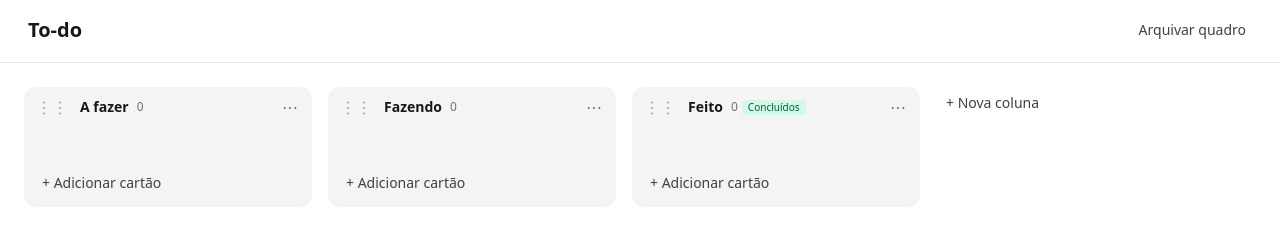
Scenario: BoardView › renomeia o quadro
The image size is (1280, 244).
Click the button "To-do" at (55, 30), box [24, 16, 86, 44]
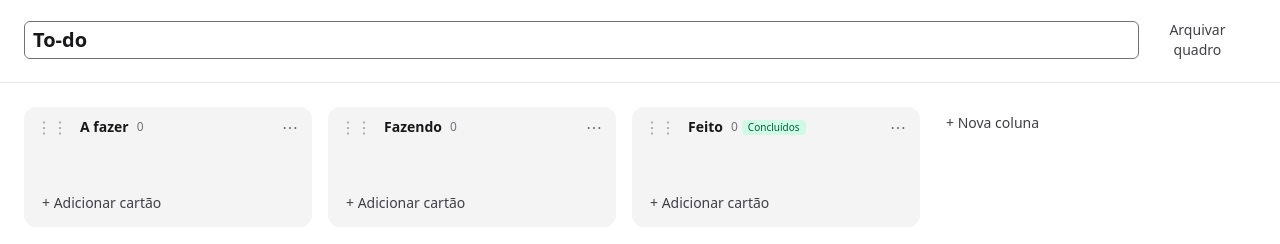
Replace the text in the field named "Nome do quadro" with "Tarefas" at (581, 40), box [24, 21, 1139, 59]
Then press Enter
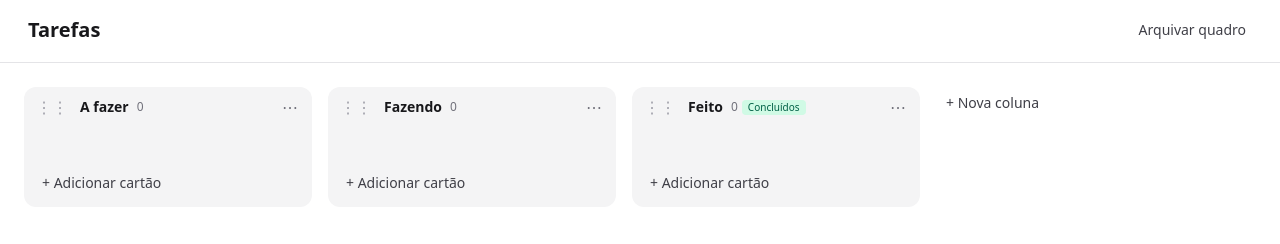
Now the button "Tarefas" is shown, box [24, 16, 104, 44]
